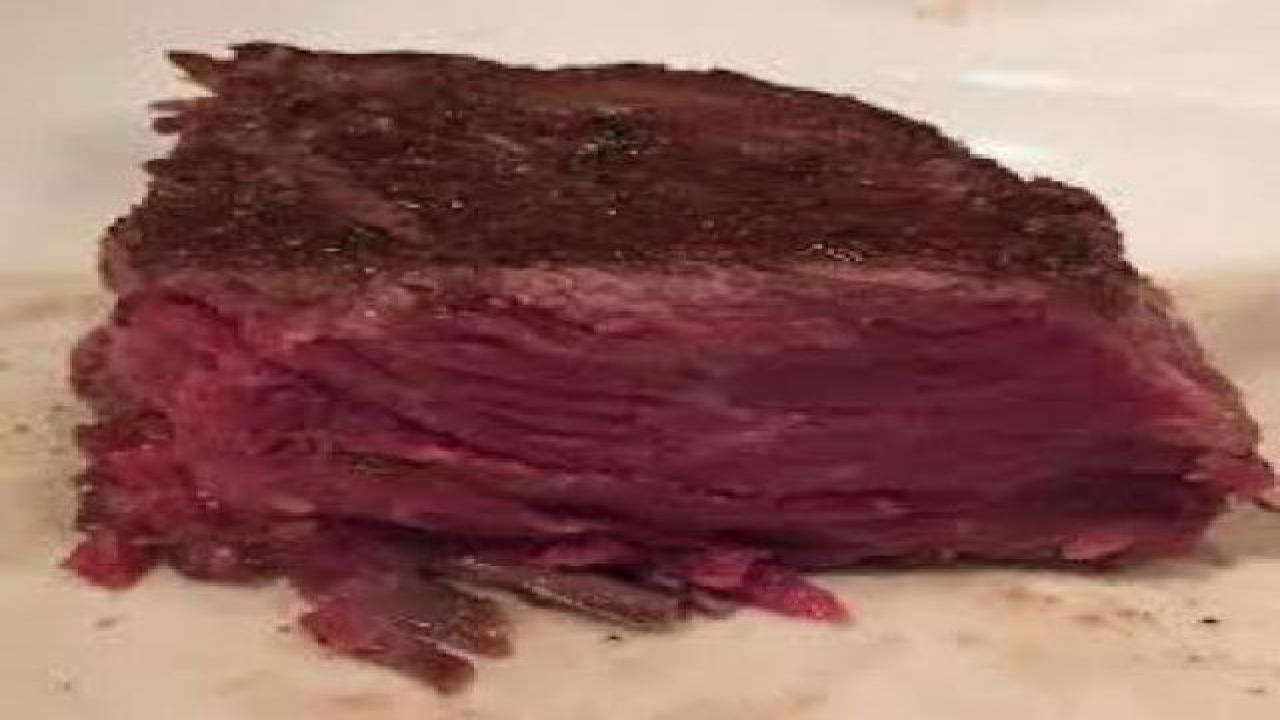Carne: (36, 195, 1278, 605)
